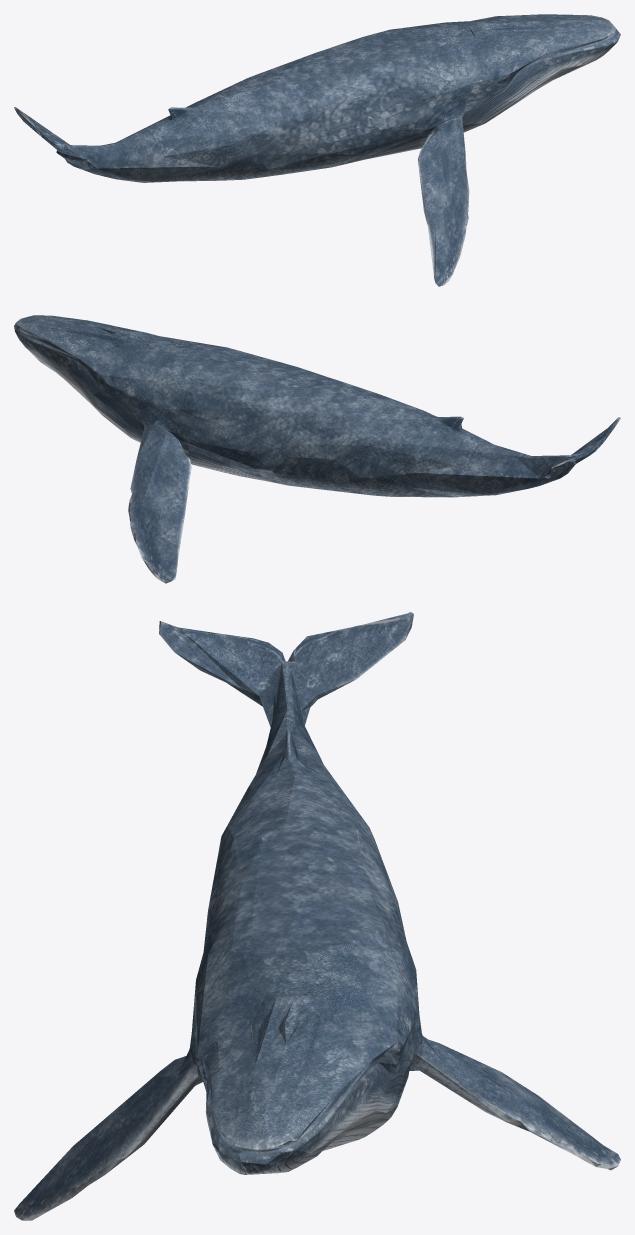
The model's file is ballena.fbx.
3 views of the same model, one above another, from view 1: azimuth 30°, elevation 25°; view 2: azimuth 150°, elevation 25°; view 3: azimuth 270°, elevation 25° (orthographic). The views are drawn at different scales.
Visible parts, largest first — view 1: ballena.001; view 2: ballena.001; view 3: ballena.001.
Boxes of the visible parts, bbox=[...] form: ballena.001: bbox=[14, 14, 620, 286]; ballena.001: bbox=[14, 315, 620, 583]; ballena.001: bbox=[14, 612, 620, 1220].
Size of the model in its own units: 12 by 3.62 by 6.18.
Materials: 1 (1 with a texture image).
